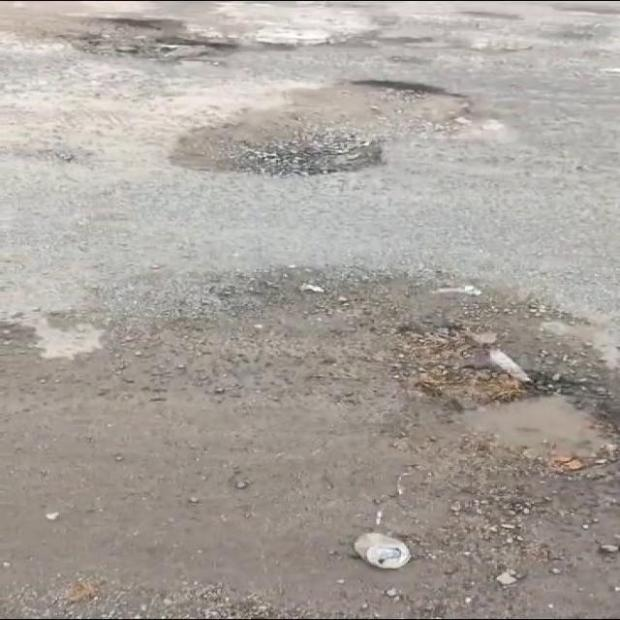lubang: (395, 289, 619, 473), (171, 80, 508, 175), (11, 5, 249, 60)
